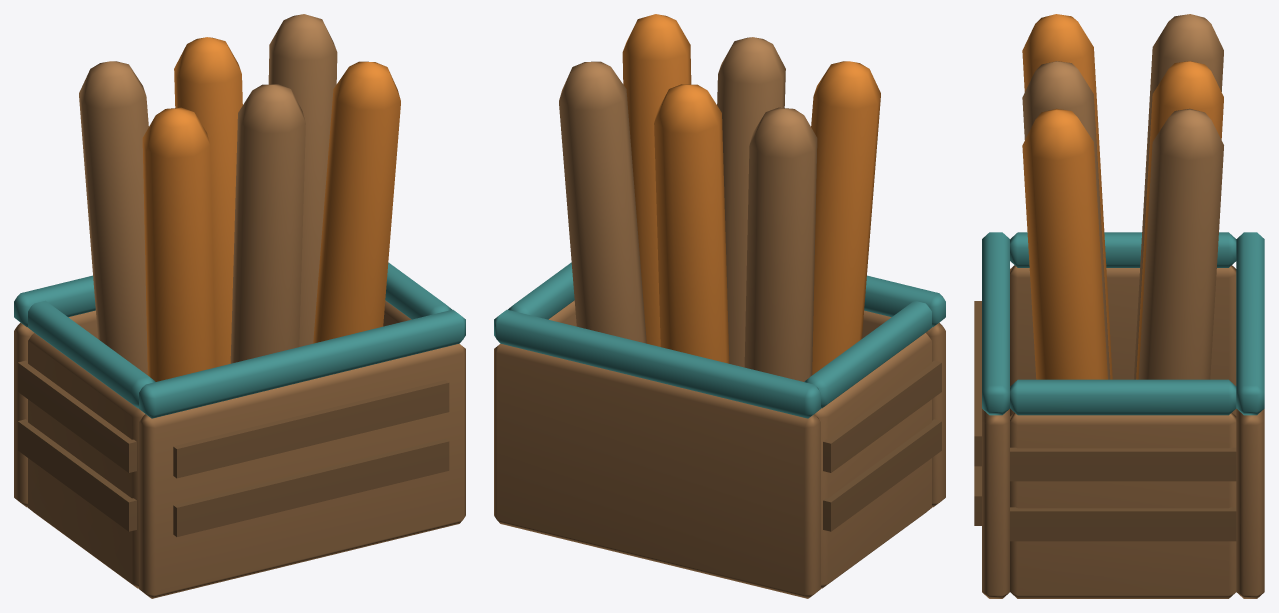
Rendered from Baguette_Basket_01.glb.
3 renders of one model, left to right at view 1: azimuth 30°, elevation 25°; view 2: azimuth 150°, elevation 25°; view 3: azimuth 270°, elevation 25°, orthographic.
Parts seen in each view (by area): view 1: SM_Baguette_Basket_01; view 2: SM_Baguette_Basket_01; view 3: SM_Baguette_Basket_01.
Part boxes in pixels (x1=…): SM_Baguette_Basket_01: x1=14, y1=14, x2=465, y2=598; SM_Baguette_Basket_01: x1=494, y1=14, x2=945, y2=598; SM_Baguette_Basket_01: x1=974, y1=14, x2=1264, y2=598.
Bounding box in the file's own units: 0.416 × 0.5393 × 0.308.
1 material, 1 textured.
